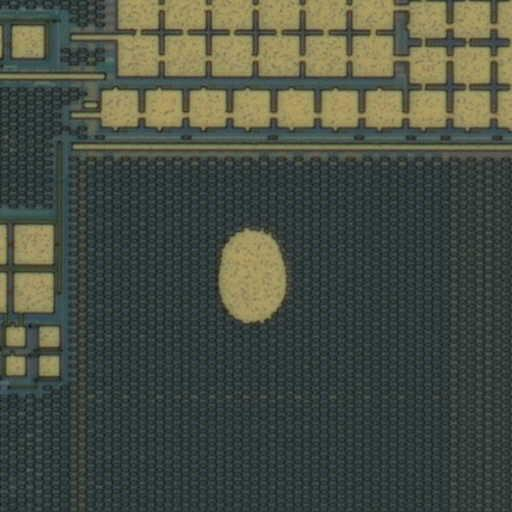BLOCK ETCH: (205, 217, 303, 335)
